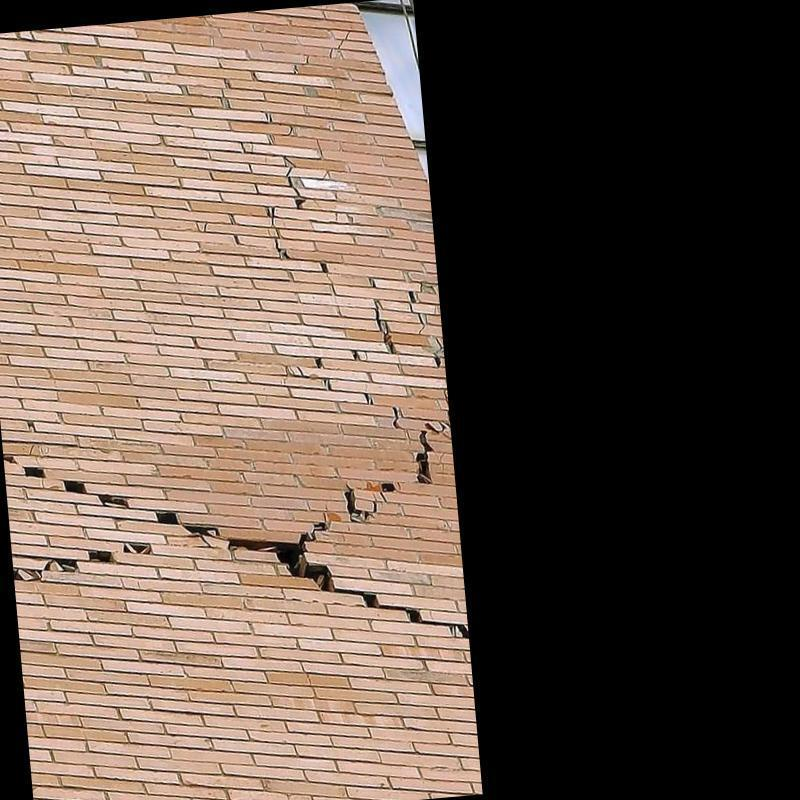pothole: (228, 522, 471, 638), (416, 430, 434, 479), (183, 526, 219, 547), (344, 484, 361, 515), (99, 495, 129, 508), (88, 551, 113, 563), (56, 559, 77, 573), (287, 176, 301, 196), (434, 337, 443, 368), (64, 481, 84, 493), (158, 513, 179, 524), (24, 467, 43, 477), (426, 424, 446, 433), (418, 313, 426, 335), (129, 544, 147, 553), (17, 567, 33, 576), (375, 310, 382, 330), (3, 455, 17, 465), (383, 321, 389, 344), (381, 483, 396, 492), (285, 157, 297, 168), (270, 206, 276, 228), (122, 544, 132, 555), (284, 166, 293, 178), (418, 475, 430, 484), (393, 407, 398, 428), (13, 571, 23, 581), (336, 39, 345, 50), (295, 199, 305, 208), (43, 561, 52, 571), (28, 444, 36, 455), (380, 492, 388, 503), (444, 389, 449, 405), (328, 48, 335, 59), (442, 433, 453, 440), (373, 494, 377, 513), (203, 221, 209, 233), (321, 171, 329, 180), (409, 292, 415, 304), (364, 512, 372, 521), (344, 30, 351, 40), (321, 263, 328, 273), (297, 366, 304, 376), (315, 359, 322, 368), (294, 65, 300, 75), (353, 351, 359, 361), (289, 366, 295, 376), (444, 421, 451, 429), (36, 569, 42, 578), (305, 54, 310, 64), (364, 394, 369, 404), (390, 342, 394, 354), (328, 380, 332, 391), (409, 303, 413, 313), (324, 512, 327, 523), (397, 482, 401, 490)
